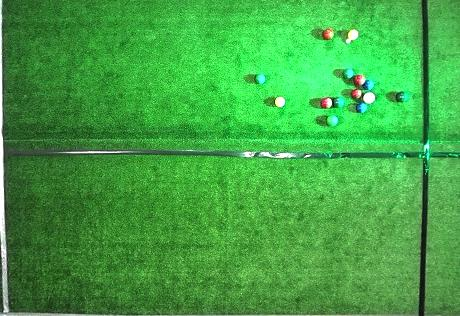blue: (363, 80, 374, 90), (356, 103, 367, 113)
green: (342, 69, 353, 79), (396, 92, 407, 102), (327, 116, 338, 126), (334, 97, 344, 107), (255, 75, 265, 84)
red: (363, 92, 375, 104), (323, 29, 334, 40), (353, 75, 365, 85), (320, 98, 332, 108), (351, 89, 361, 98)
vline: (418, 1, 460, 315), (0, 1, 12, 315)
white: (346, 39, 351, 43)
yellow: (348, 29, 358, 40), (275, 97, 285, 107)
